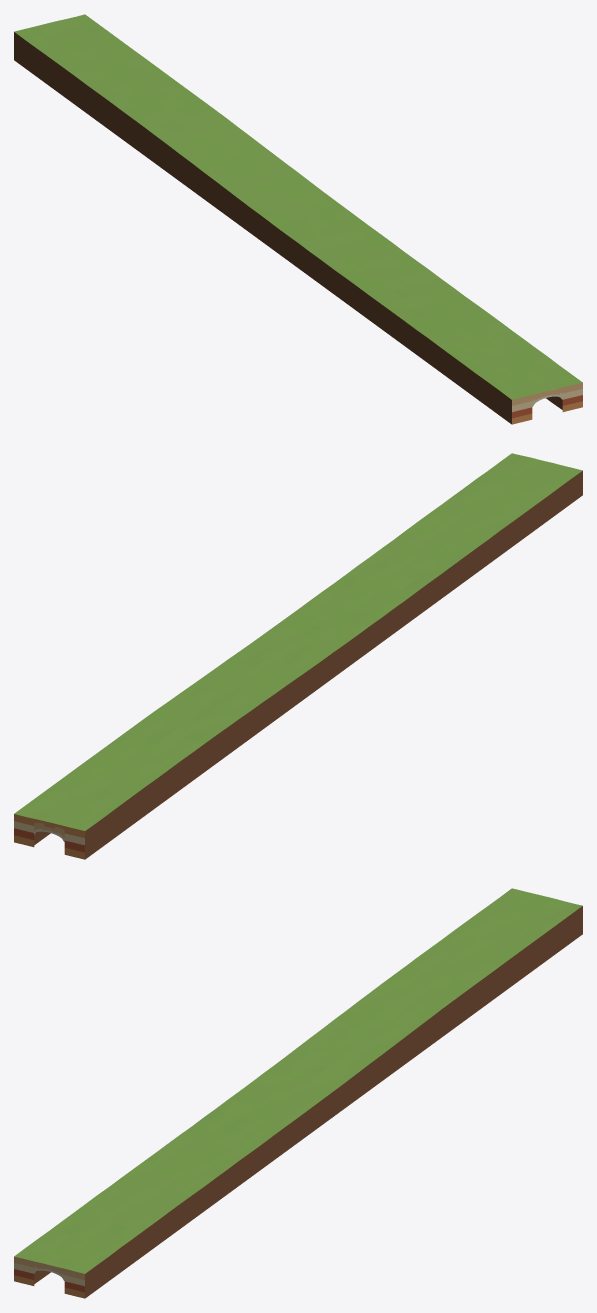
Rendered from tunel_18g2.glb.
3 renders of one model, top to bottom at view 1: azimuth 30°, elevation 25°; view 2: azimuth 150°, elevation 25°; view 3: azimuth 330°, elevation 25°, orthographic.
Parts seen in each view (by area): view 1: tunel_18g2; view 2: tunel_18g2; view 3: tunel_18g2.
Boxes of the visible parts, x1,y1,x2,y2 form: tunel_18g2: (14, 14, 582, 424); tunel_18g2: (14, 453, 582, 859); tunel_18g2: (14, 888, 582, 1298).
Bounding box in the file's own units: 84 × 32.53 × 1020.
